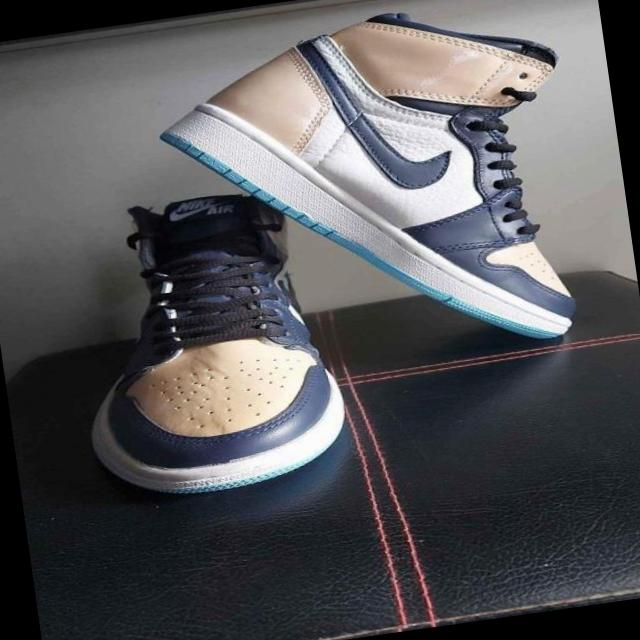nike_fake_jordan: (145, 0, 596, 389), (60, 142, 362, 508)
